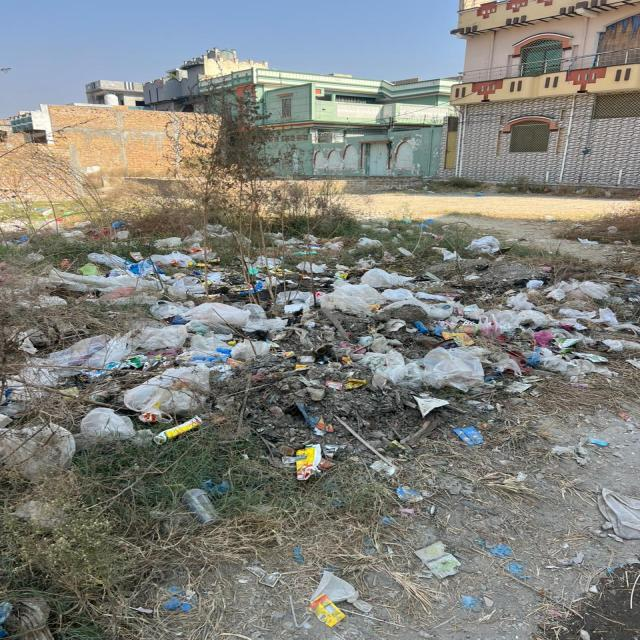garbage: (3, 230, 624, 438)
